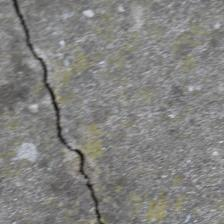Crack: (13, 2, 104, 223)
